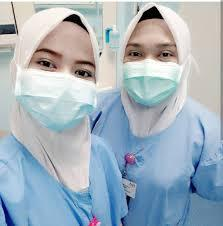Wearing Mask: (9, 4, 111, 136), (110, 1, 201, 131)
